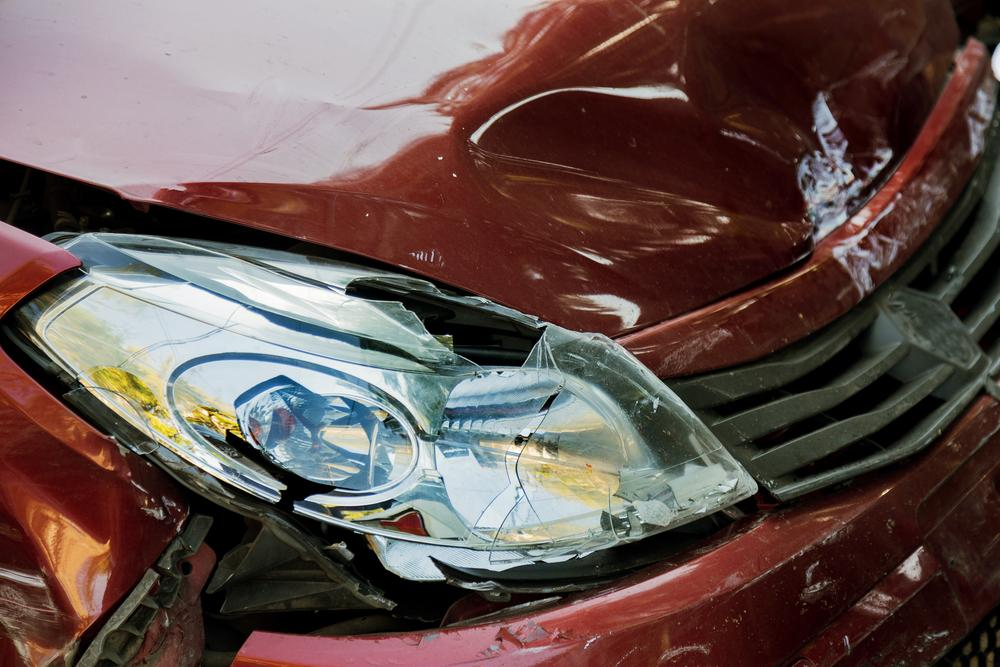dent: (474, 0, 920, 251)
lamp broken: (18, 237, 763, 589)
scratch: (822, 75, 998, 300)
